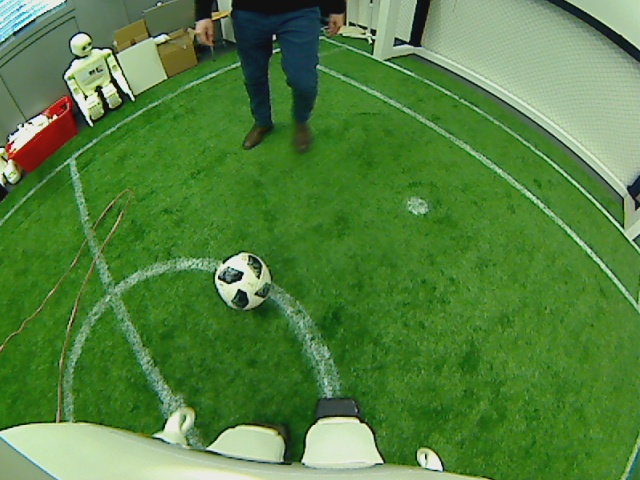ball: (212, 251, 273, 312)
